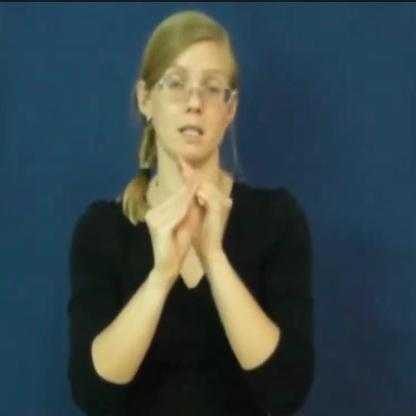Fix: (136, 160, 258, 269)
